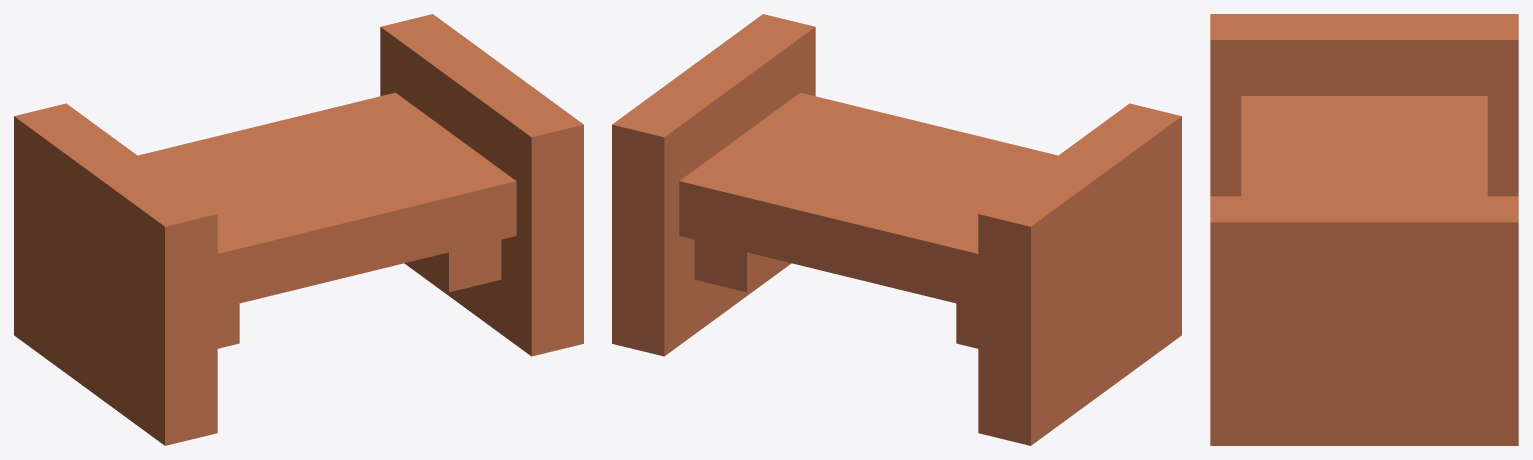
Rendered from wood-bench.glb.
The picture shows the model from 3 angles, left to right: view 1: azimuth 30°, elevation 25°; view 2: azimuth 150°, elevation 25°; view 3: azimuth 270°, elevation 25°; orthographic projection.
Parts seen in each view (by area): view 1: generated(Clone); view 2: generated(Clone); view 3: generated(Clone).
Boxes of the visible parts, x1,y1,x2,y2 form: generated(Clone): (14,14,583,445); generated(Clone): (612,14,1181,445); generated(Clone): (1210,14,1518,445).
Bounding box in the file's own units: 8 × 4 × 5.
Materials: 1 (1 with a texture image).
